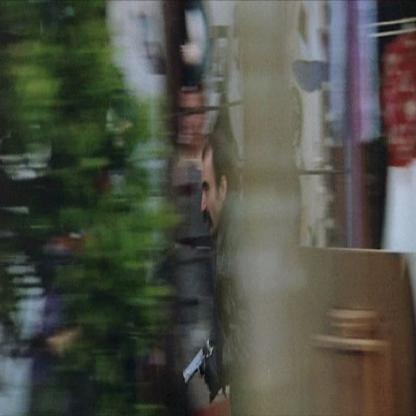gun: (185, 339, 213, 405)
